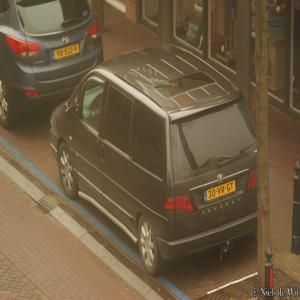Vehicle-registration-plate: (209, 183, 237, 214), (52, 43, 80, 65)
